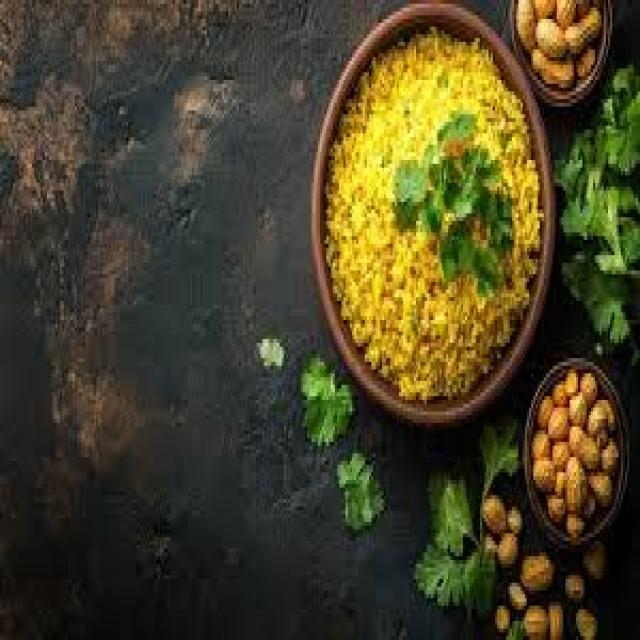POHA: (324, 30, 535, 396)
